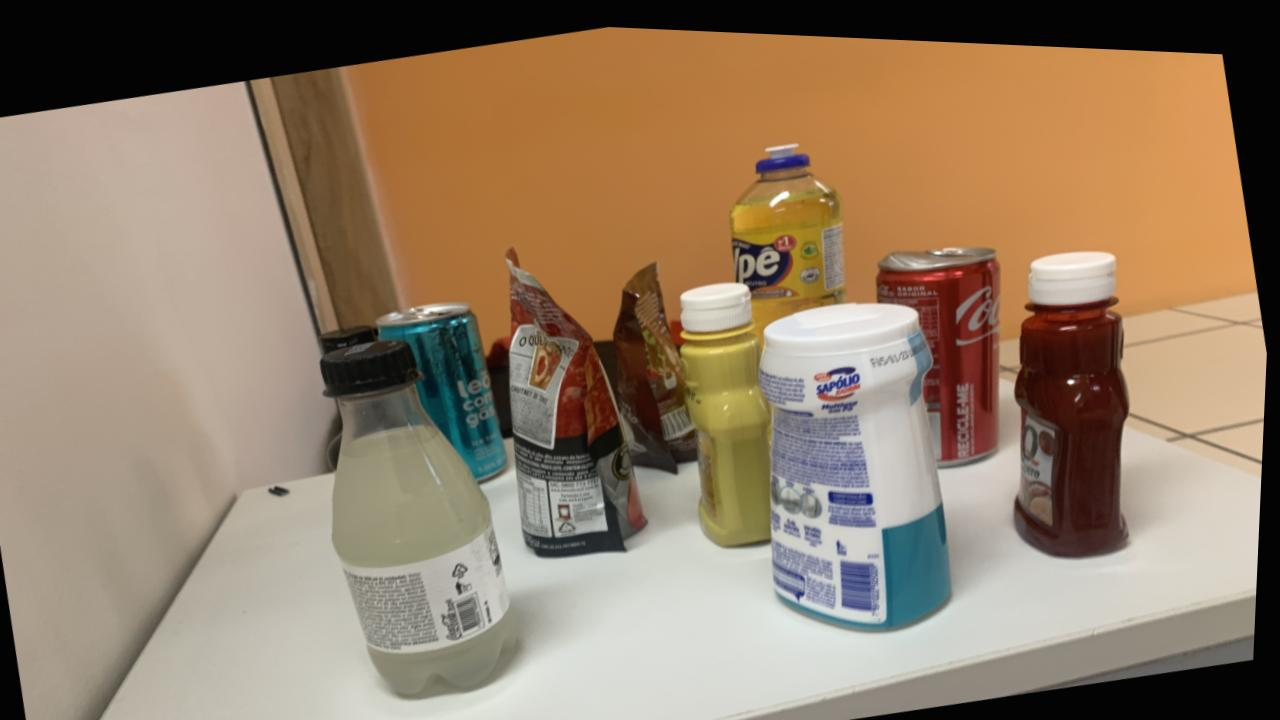Cleaner-Cleanup_Items: (761, 294, 956, 621)
Coffee-Pantry_Items: (616, 256, 701, 466)
Coke-Drinks: (877, 236, 1003, 457)
Detergent-Cleanup_Items: (730, 136, 848, 327)
English_Sauce-Pantry_Items: (321, 321, 379, 350)
Ketchup-Pantry_Items: (1017, 240, 1132, 547)
Mustard-Pantry_Items: (682, 275, 776, 539)
Soda-Drinks: (325, 336, 522, 690)
Tea-Drinks: (379, 297, 511, 476)
Tomato_Sauce-Pantry_Items: (508, 245, 651, 551)
